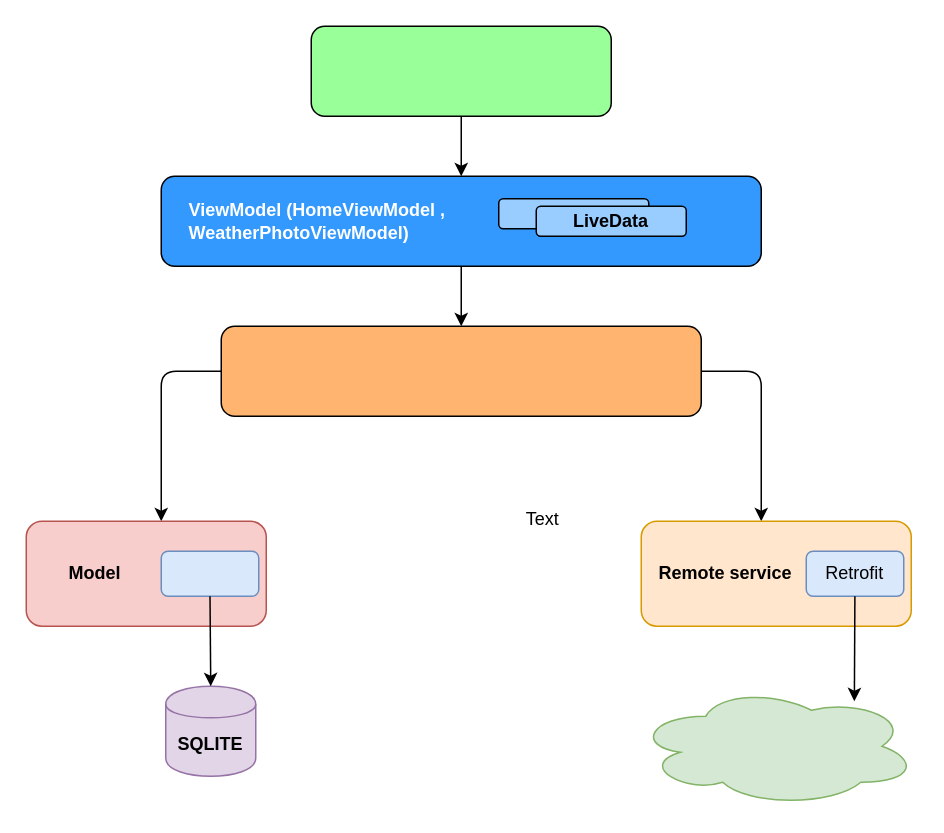
Some shapes in this 944 by 833 pixel diagram are drawn without their labels. The centre of each missing label's shape, as x and y in pixels:
"openweathermap APIs" goes at [775,745].
"Repository WeatherPhotoRepository. HomeRepository" goes at [460,370].
"Room" goes at [209,573].
"View WeatherPhotosActivity & Fragments" goes at [460,70].
